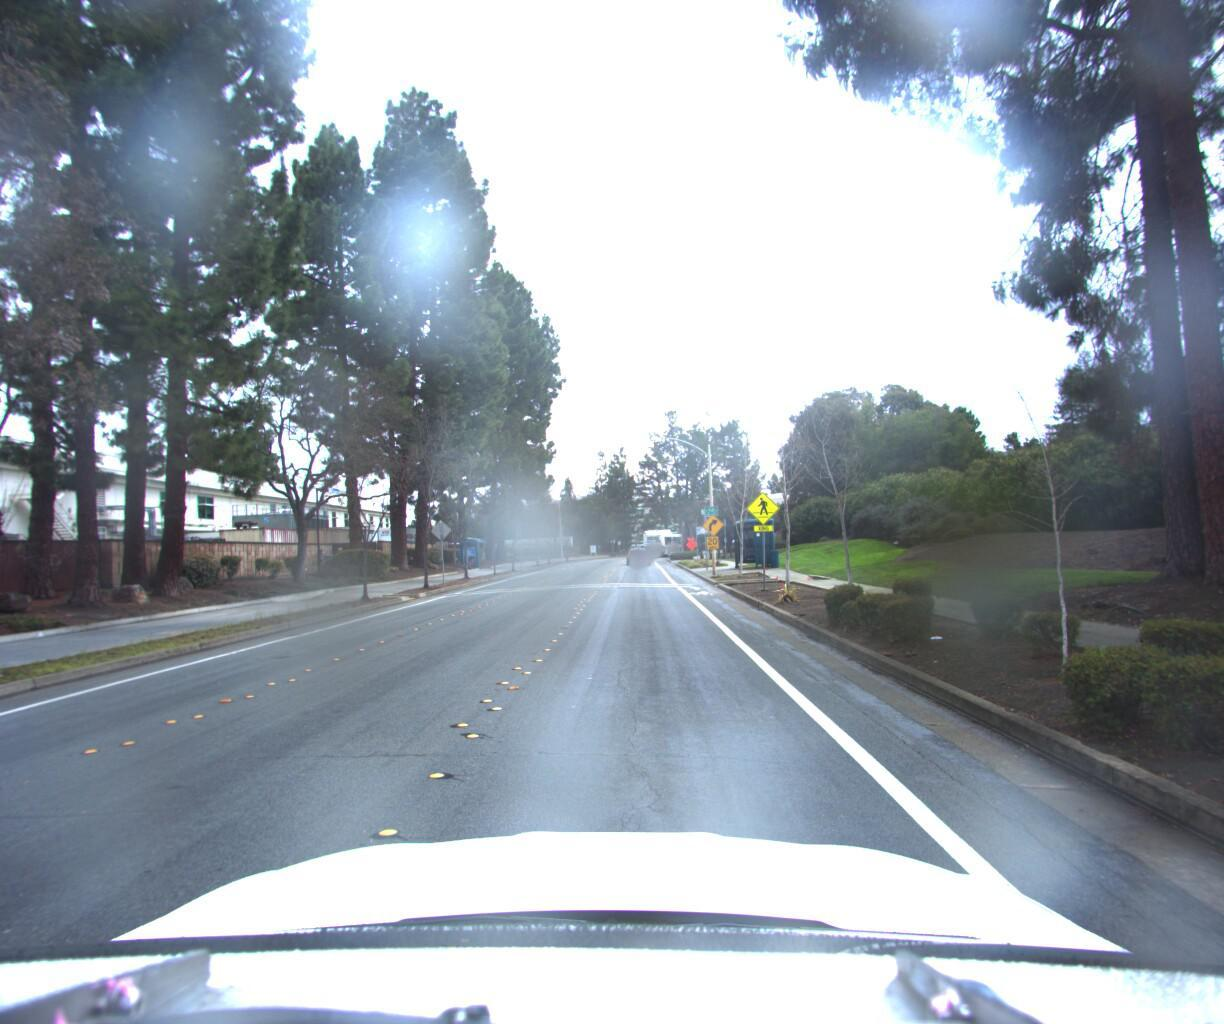car: (624, 546, 650, 569)
truck: (368, 517, 428, 555)
